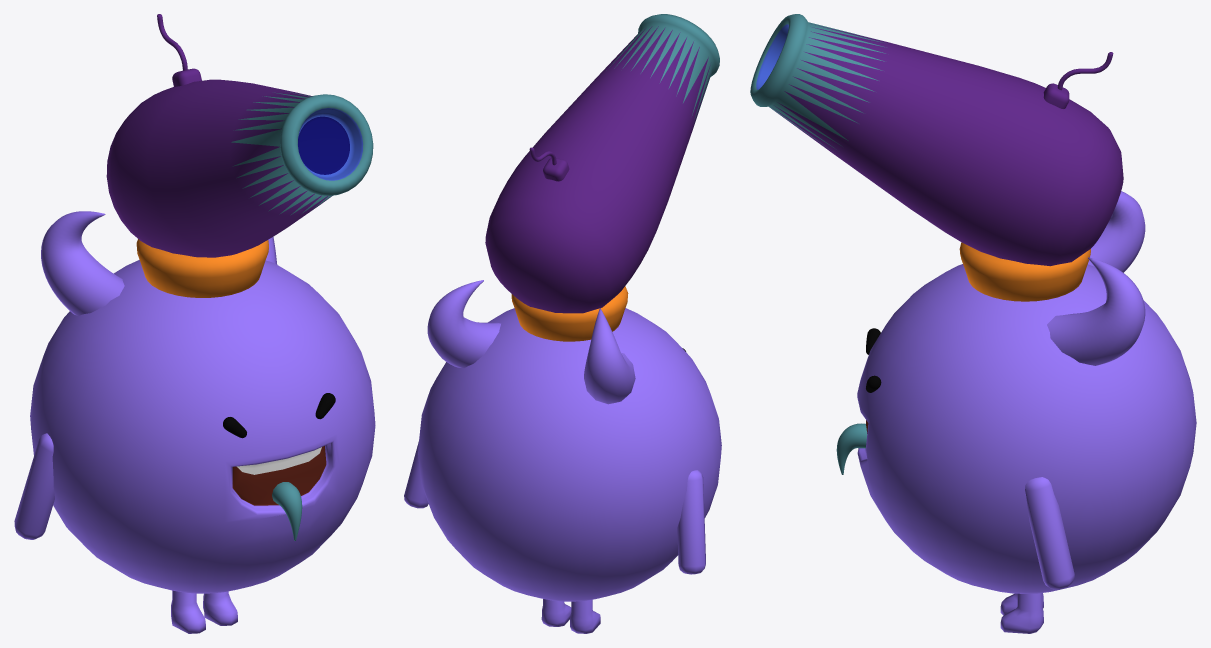
File: 紫色人物.fbx
3 renders of one model, left to right at view 1: azimuth 30°, elevation 25°; view 2: azimuth 150°, elevation 25°; view 3: azimuth 270°, elevation 25°, orthographic. The views are drawn at different scales.
Parts seen in each view (by area): view 1: 紫色人物, 紫色人物炮; view 2: 紫色人物, 紫色人物炮; view 3: 紫色人物, 紫色人物炮.
Part boxes in pixels (x1,y1,x2,y2): 紫色人物: (14, 211, 375, 633); 紫色人物炮: (106, 14, 373, 257); 紫色人物: (404, 280, 721, 633); 紫色人物炮: (485, 14, 719, 313); 紫色人物: (836, 191, 1196, 633); 紫色人物炮: (750, 14, 1123, 266).
Bounding box in the file's own units: 2.85 × 4.86 × 3.27.
